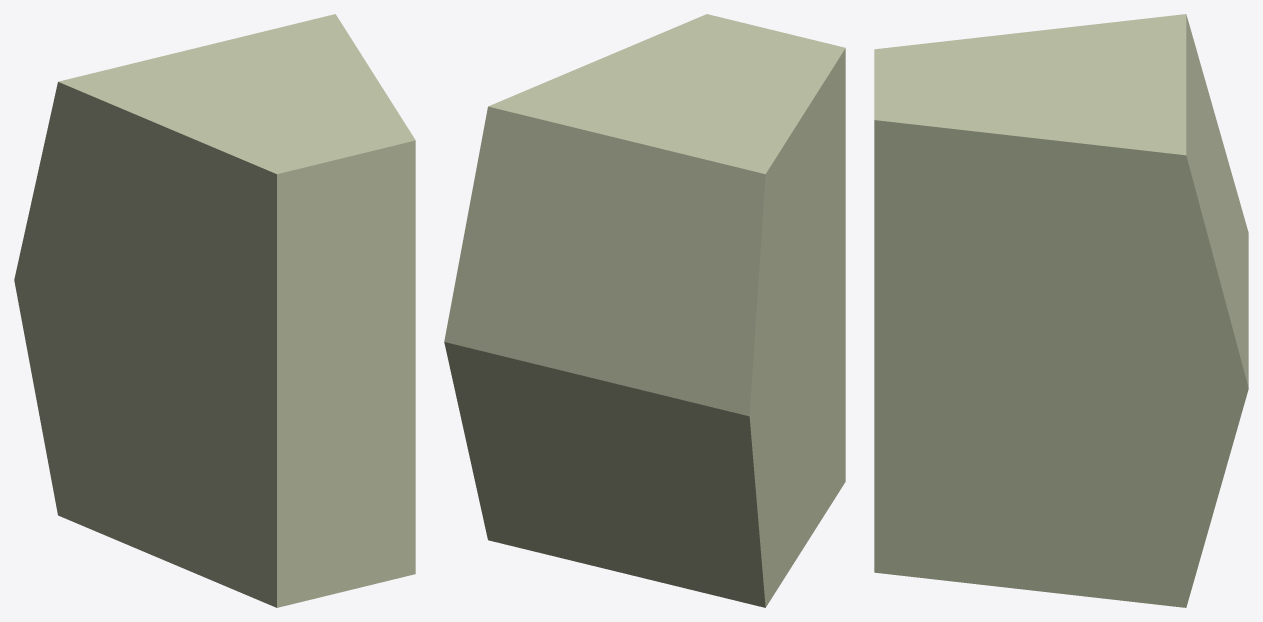
The model's file is libra_lv_mount_s2_1_collider.obj.
3 renders of one model, left to right at view 1: azimuth 30°, elevation 25°; view 2: azimuth 150°, elevation 25°; view 3: azimuth 270°, elevation 25°, orthographic. The views are drawn at different scales.
Parts seen in each view (by area): view 1: collider; view 2: collider; view 3: collider.
Part boxes in pixels (x1,y1,x2,y2): collider: (14, 14, 415, 607); collider: (444, 14, 845, 607); collider: (874, 14, 1248, 607).
Size of the model in its own units: 0.7369 by 1 by 0.75.
